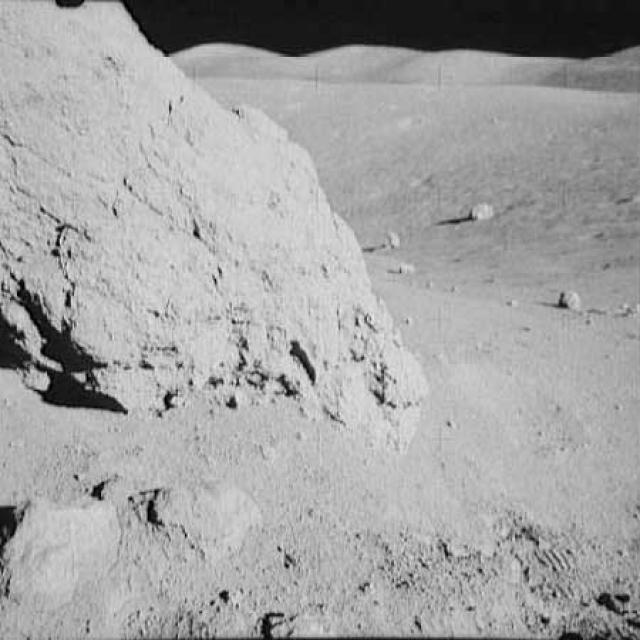rock: (5, 489, 120, 604), (143, 475, 266, 555), (467, 198, 506, 227), (555, 288, 584, 314), (386, 225, 405, 251), (395, 260, 415, 278)
